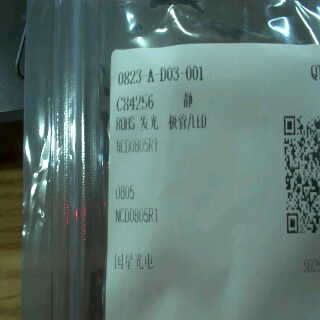LED: (136, 112, 219, 135)
